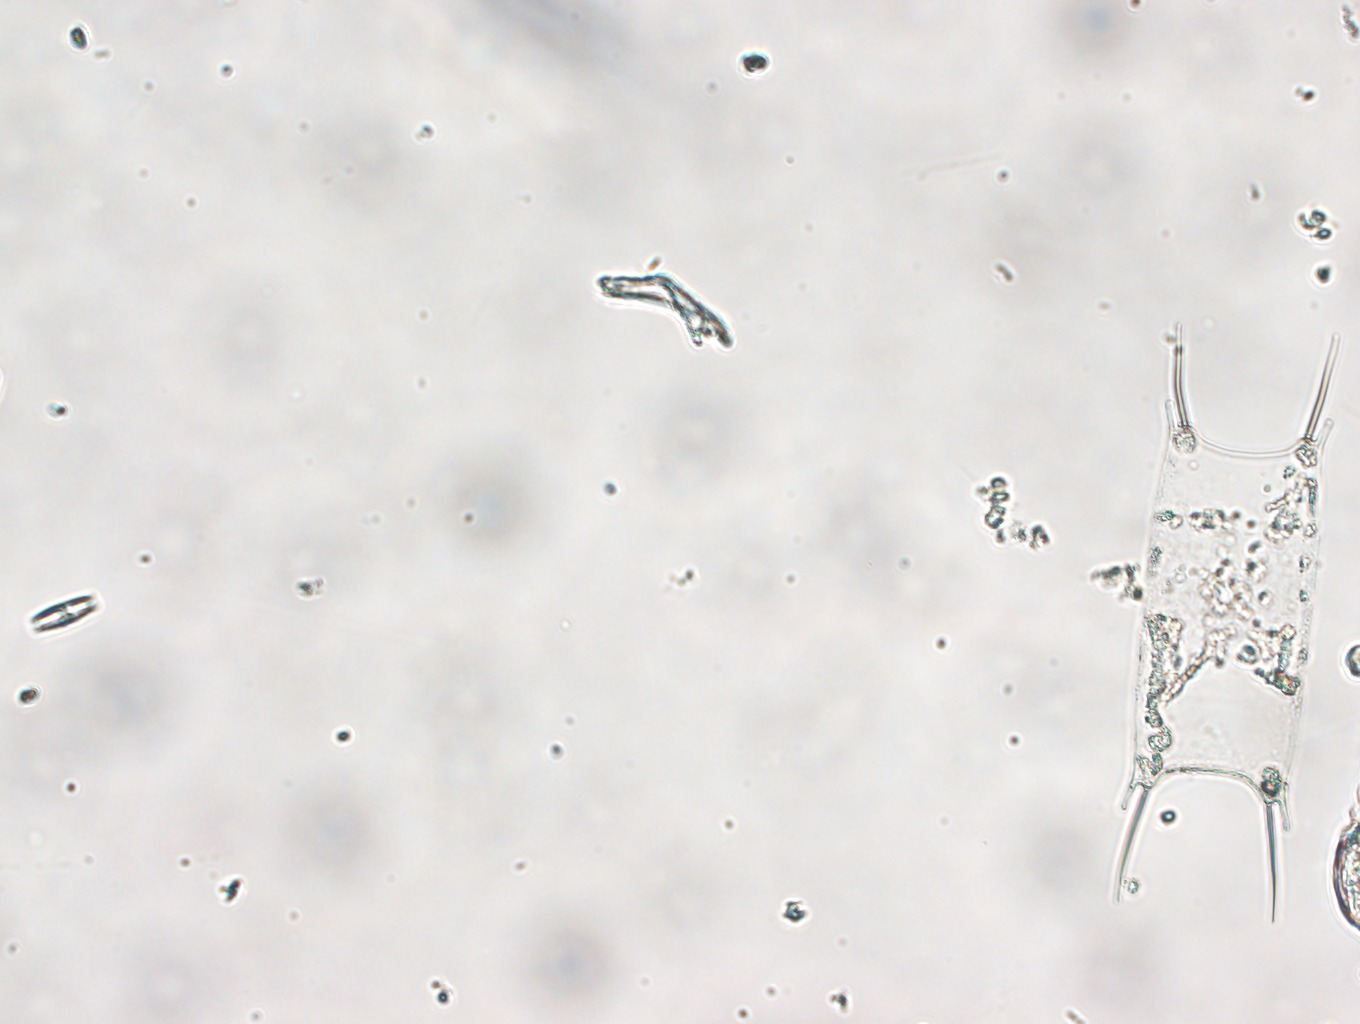biddulphia: (1107, 305, 1343, 929)
